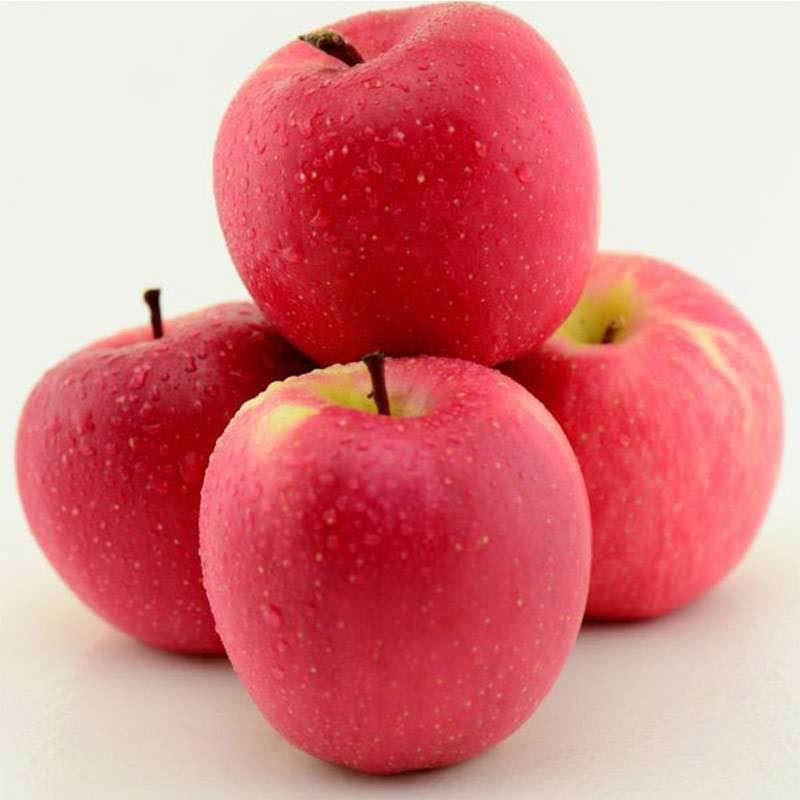apple: (192, 372, 594, 783), (212, 6, 601, 367), (7, 317, 346, 680), (517, 252, 783, 624)
